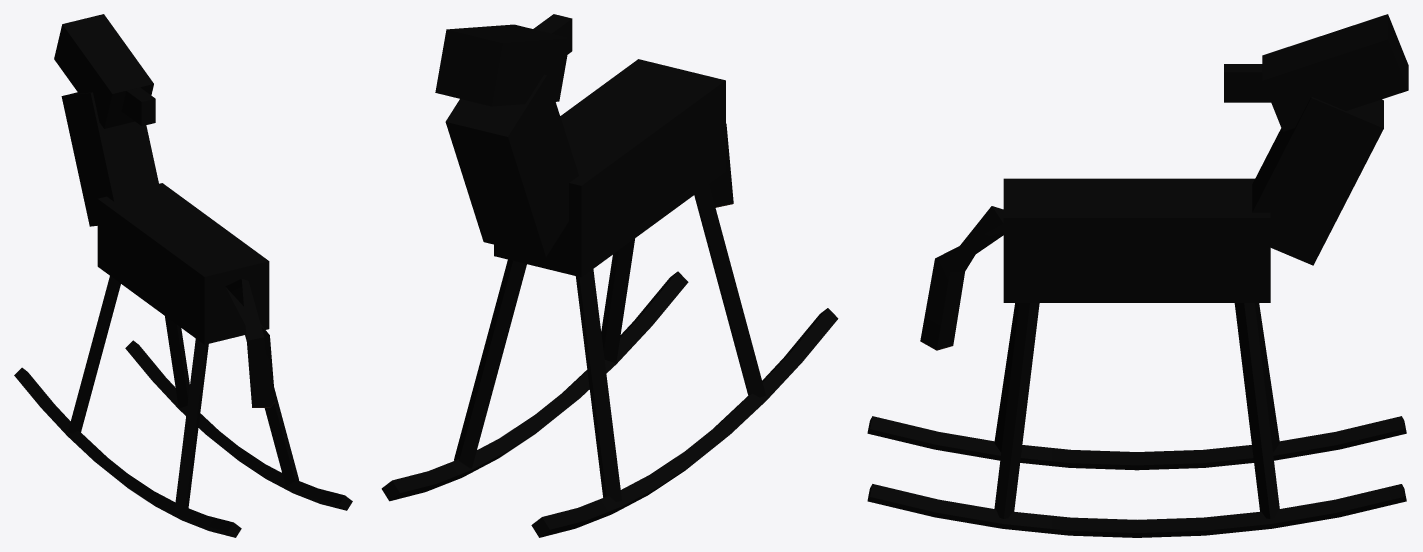
File: SM_rocking_horse.fbx
The picture shows the model from 3 angles, left to right: view 1: azimuth 30°, elevation 25°; view 2: azimuth 150°, elevation 25°; view 3: azimuth 270°, elevation 25°; orthographic projection. The views are drawn at different scales.
Parts seen in each view (by area): view 1: rocking_horse; view 2: rocking_horse; view 3: rocking_horse.
Boxes of the visible parts, x1,y1,x2,y2 form: rocking_horse: [14, 14, 352, 537]; rocking_horse: [381, 14, 838, 537]; rocking_horse: [867, 14, 1408, 537].
Size of the model in its own units: 0.27 by 0.7886 by 0.8102.
